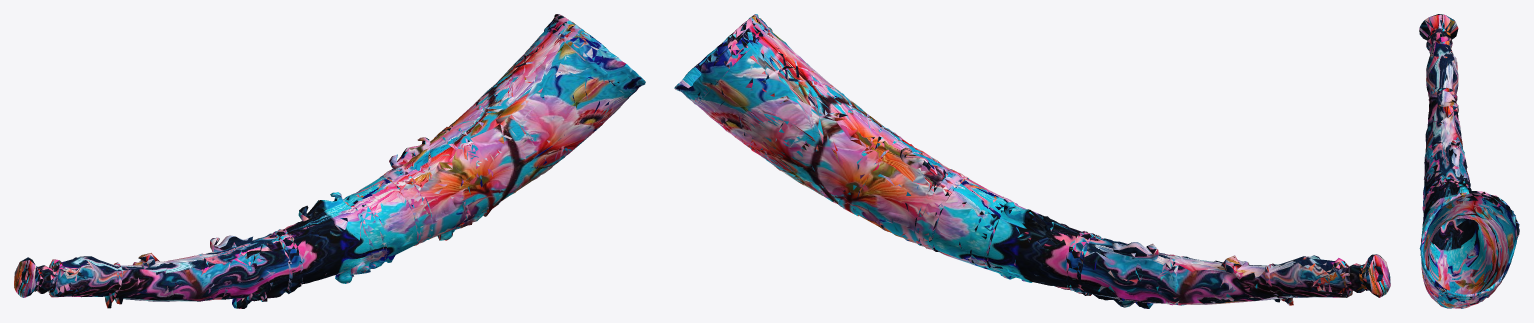
File: si_nmafa_hunting-horn.glb
3 views of the same model, side by side, from view 1: azimuth 30°, elevation 25°; view 2: azimuth 150°, elevation 25°; view 3: azimuth 270°, elevation 25° (orthographic). The views are drawn at different scales.
Parts seen in each view (by area): view 1: A; view 2: A; view 3: A.
Boxes of the visible parts, <box> form: A: <box>14,14,645,308</box>; A: <box>674,14,1390,308</box>; A: <box>1419,14,1519,308</box>.
Bounding box in the file's own units: 2 × 0.5885 × 0.2762.
Materials: 1 (1 with a texture image).
